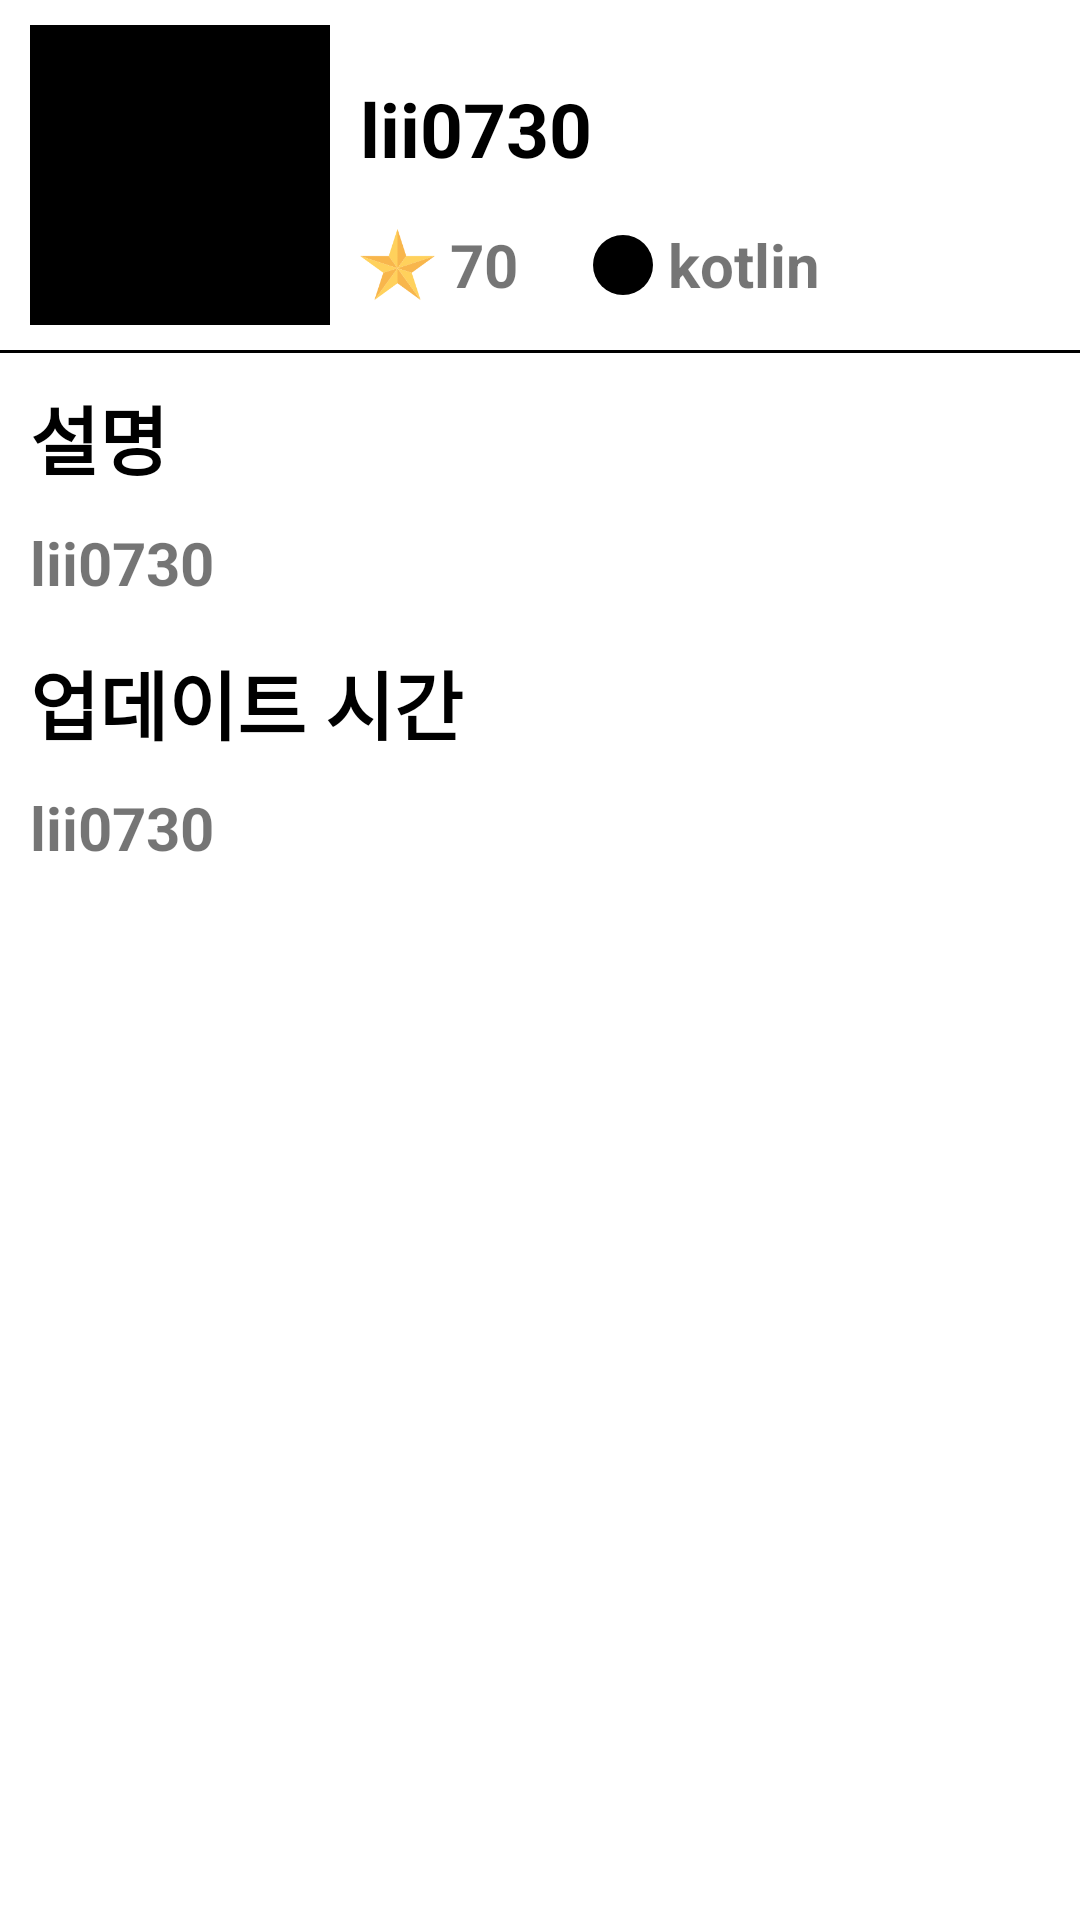

Icon click points for this 1080 × 1920 phone screenshot, format point (x, y):
star: point (397, 264)
